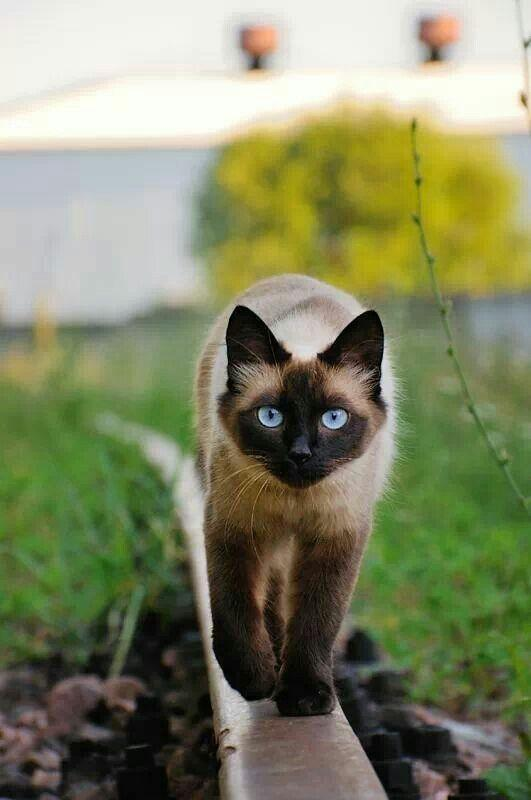siamese: (214, 297, 397, 501)
